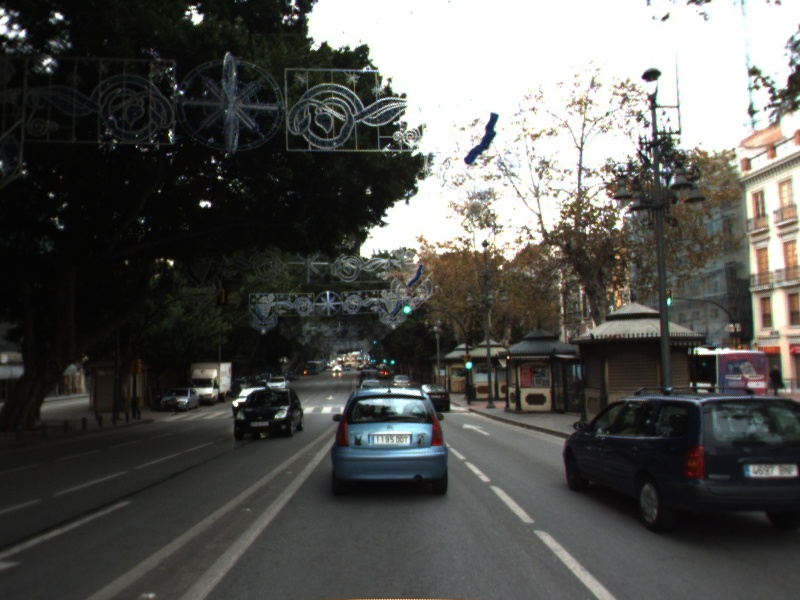STRAIGHT: (460, 421, 493, 437)
